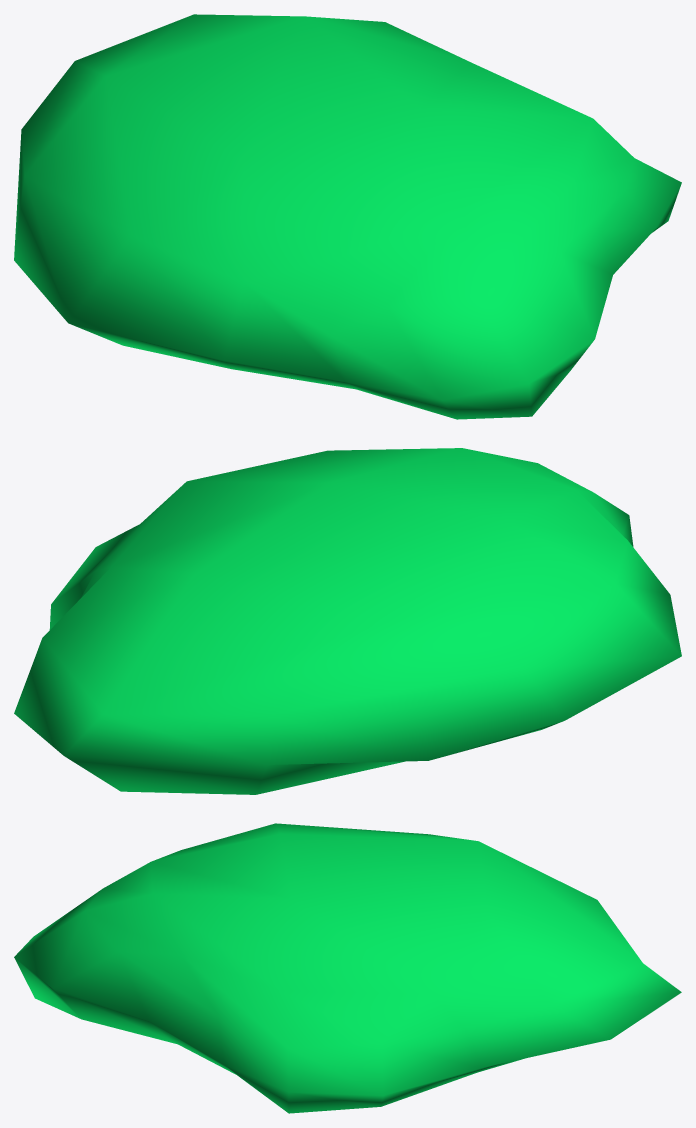
File: Moss_04.fbx
3 renders of one model, top to bottom at view 1: azimuth 30°, elevation 25°; view 2: azimuth 150°, elevation 25°; view 3: azimuth 270°, elevation 25°, orthographic. The views are drawn at different scales.
Parts seen in each view (by area): view 1: Cube; view 2: Cube; view 3: Cube.
Boxes of the visible parts, x1=… form: Cube: x1=14, y1=14, x2=681, y2=419; Cube: x1=14, y1=448, x2=681, y2=794; Cube: x1=14, y1=823, x2=681, y2=1113.
Bounding box in the file's own units: 522 × 142 × 650.
